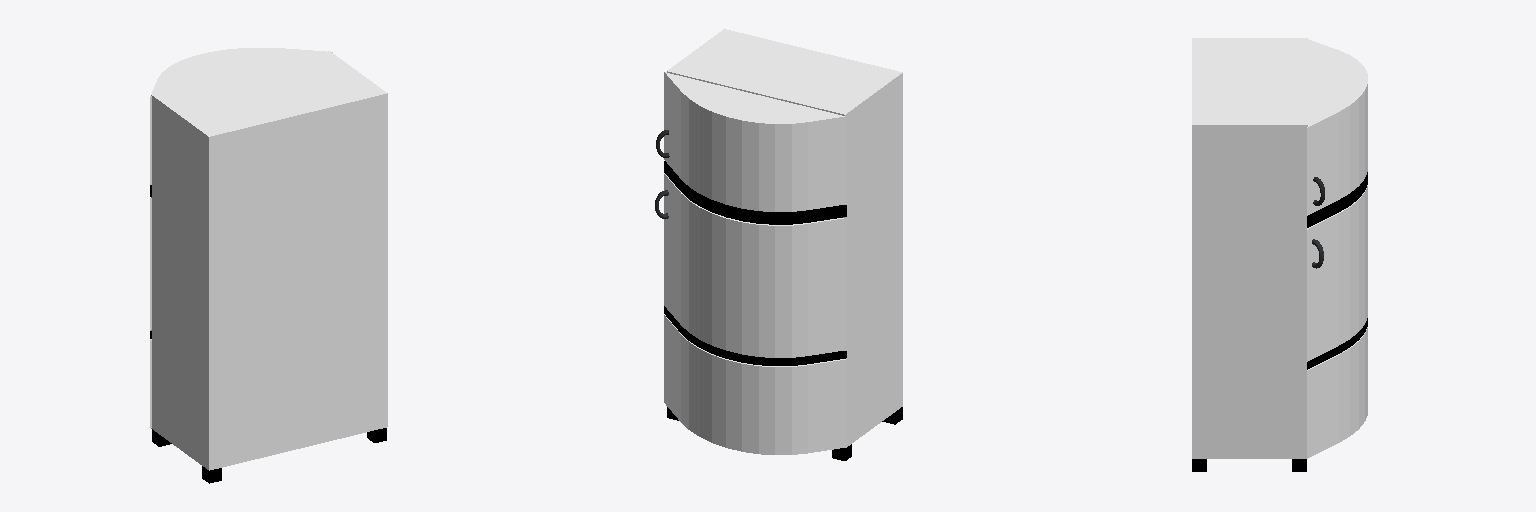
The model's file is refrigerador.obj.
3 renders of one model, left to right at view 1: azimuth 30°, elevation 25°; view 2: azimuth 150°, elevation 25°; view 3: azimuth 270°, elevation 25°, orthographic.
Parts seen in each view (by area): view 1: Cubo.007_Cubo.008; view 2: Cubo.007_Cubo.008; view 3: Cubo.007_Cubo.008.
Part boxes in pixels (x1,y1,x2,y2): Cubo.007_Cubo.008: (150,48,387,483); Cubo.007_Cubo.008: (655,29,902,460); Cubo.007_Cubo.008: (1192,38,1367,471).
Size of the model in its own units: 29.02 by 51.97 by 23.94.